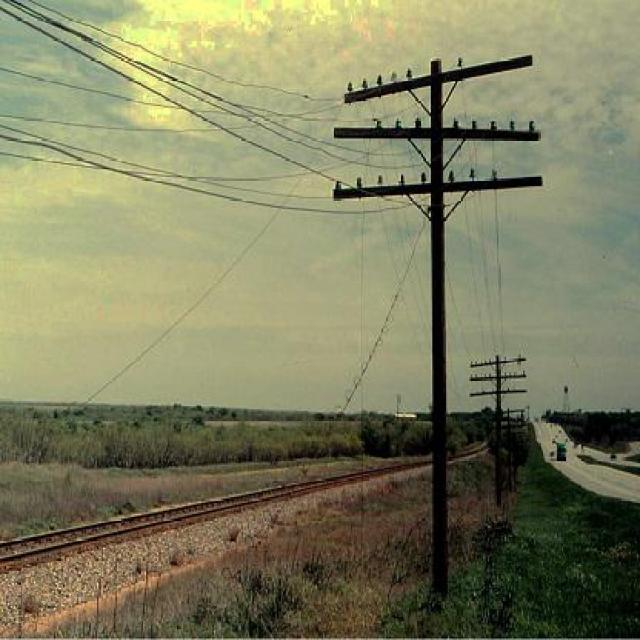pole: (328, 51, 542, 582), (468, 348, 534, 509)
